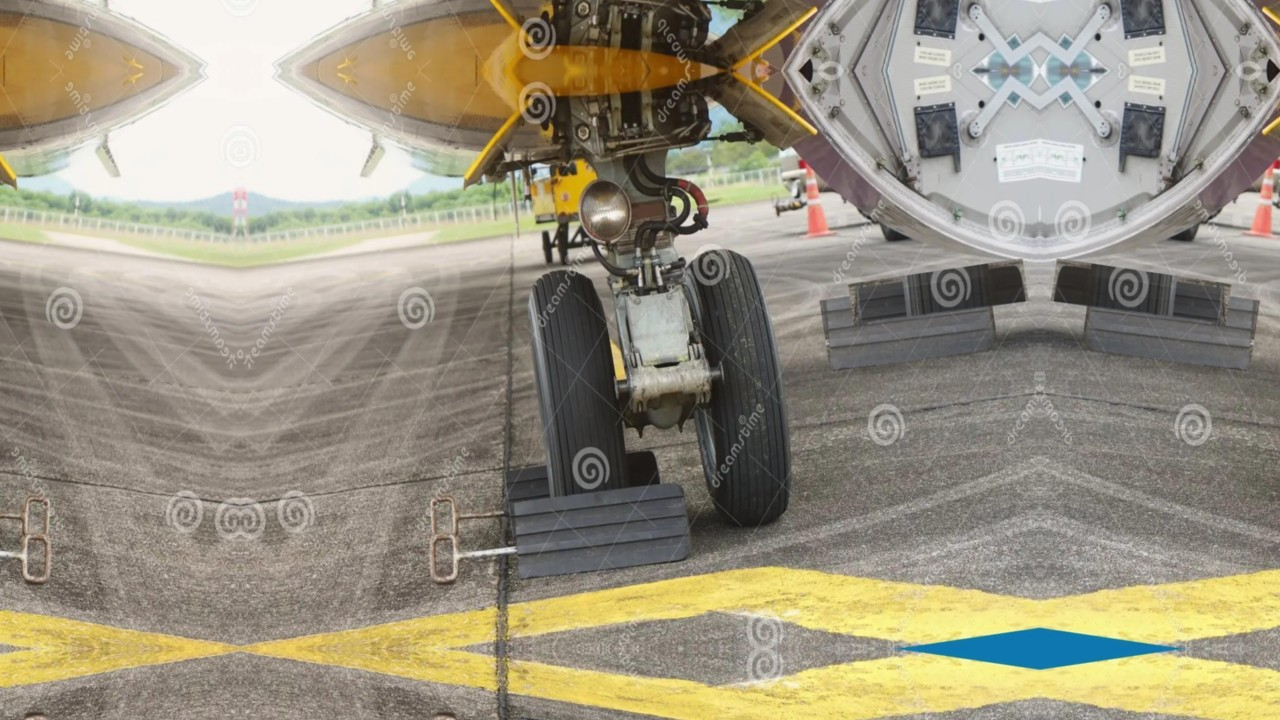chock: (507, 478, 697, 581), (820, 276, 999, 372), (1081, 276, 1260, 372), (848, 258, 1029, 327), (1051, 258, 1232, 327), (496, 444, 664, 508)
wheel: (668, 245, 799, 527), (520, 262, 634, 497)
